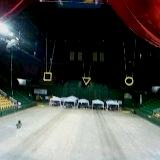Yellow_Circle_GShape: (123, 75, 133, 86)
Yellow_Square_GShape: (43, 70, 53, 81)
Yellow_Triangle_Gshape: (81, 76, 91, 86)
